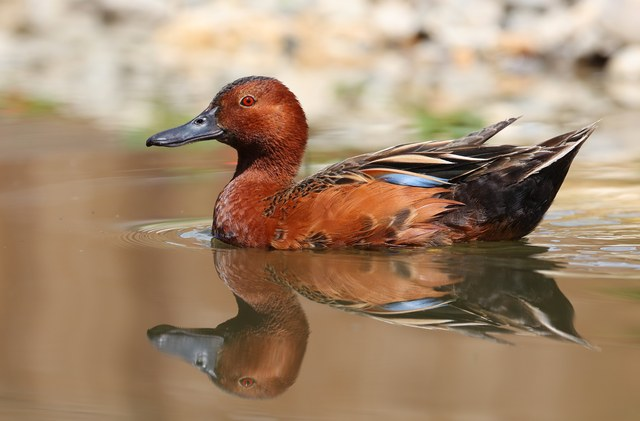Hawkins Induction Base Pan: (32, 21, 608, 400)
